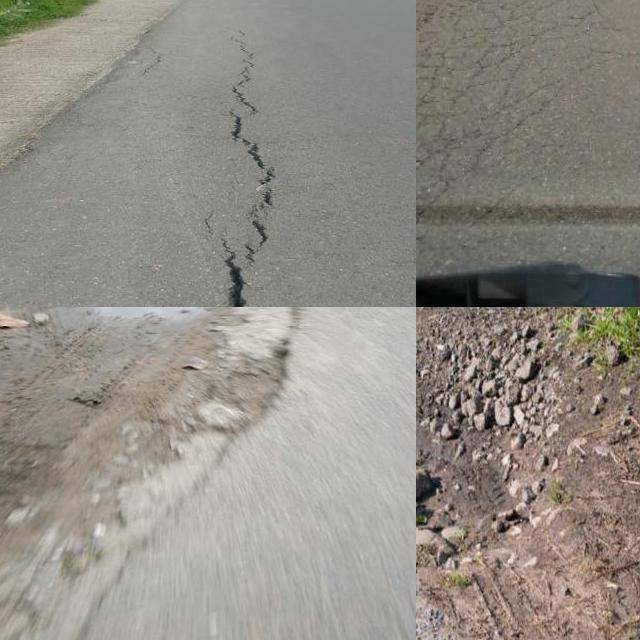Memanjang: (214, 32, 284, 307)
Pinggir: (0, 307, 321, 640), (416, 363, 588, 640)
Retak Buaya: (416, 0, 571, 231)
